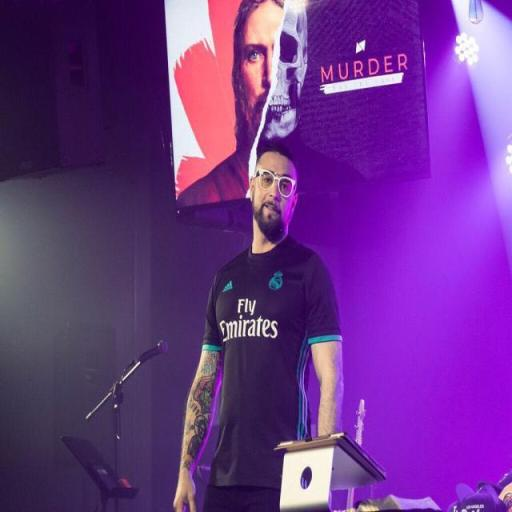Adidas: (222, 278, 234, 295)
Emirates: (218, 297, 280, 342)
